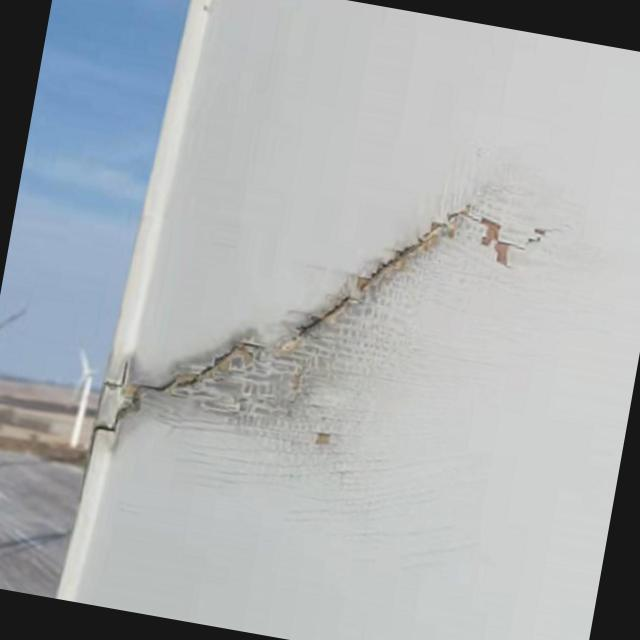crack: (102, 154, 490, 488)
